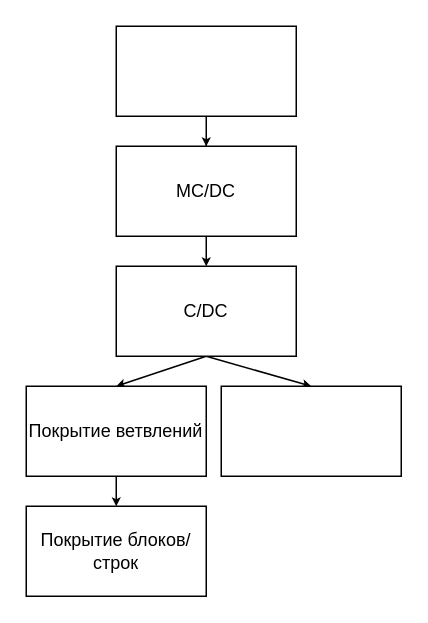
This 428x623 diagram has some shape labels left out. Here are the shapes that lost their labels. From the top down, the centre of each, then its label:
the point at 205,70: Покрытие путей исполнения
the point at 310,430: Покрытие условий
